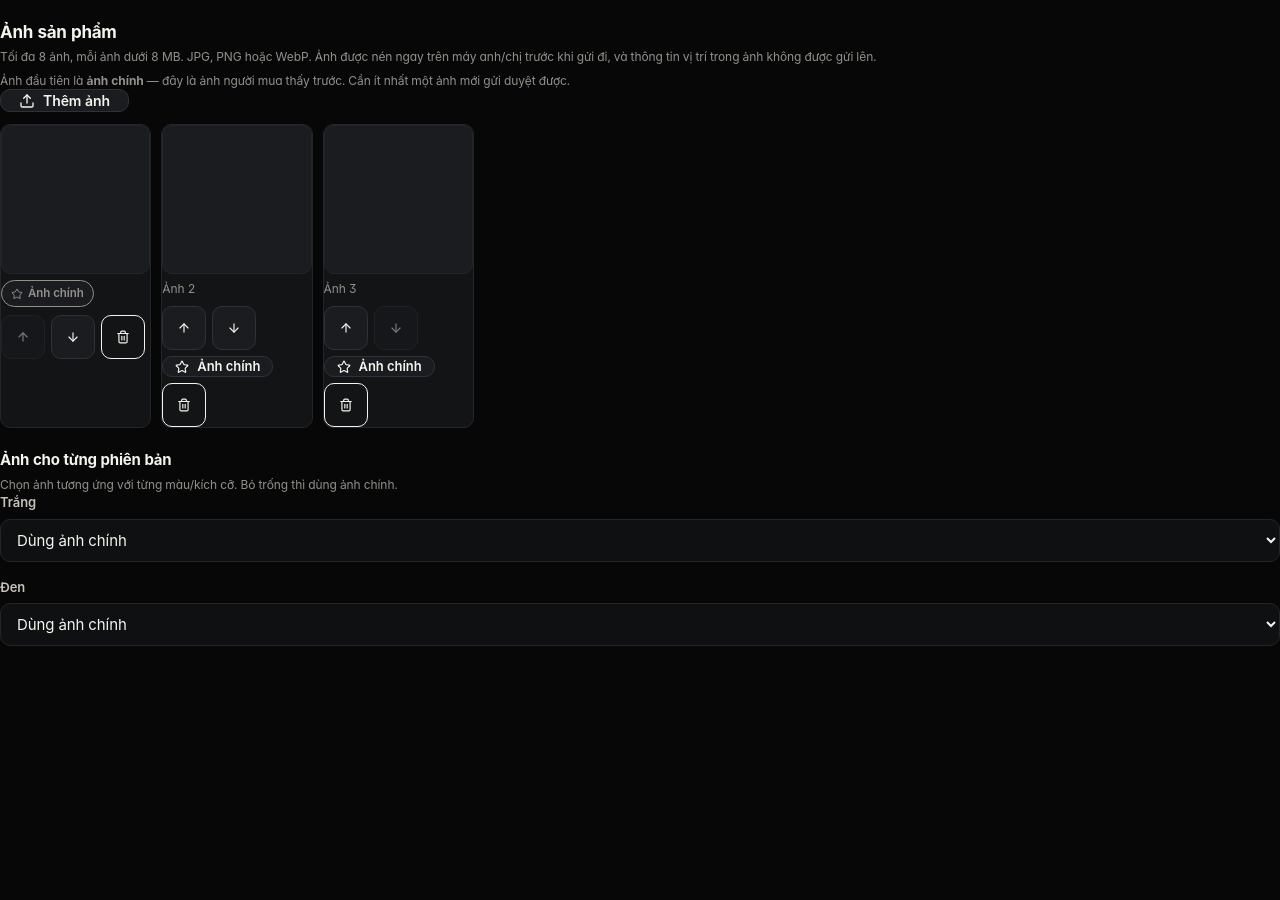
Test case: deleting a photo › says why when the server refuses
The width and height of the screenshot is (1280, 900).
Click the button named "Xóa ảnh 1": [123, 337] box [101,315,145,359]
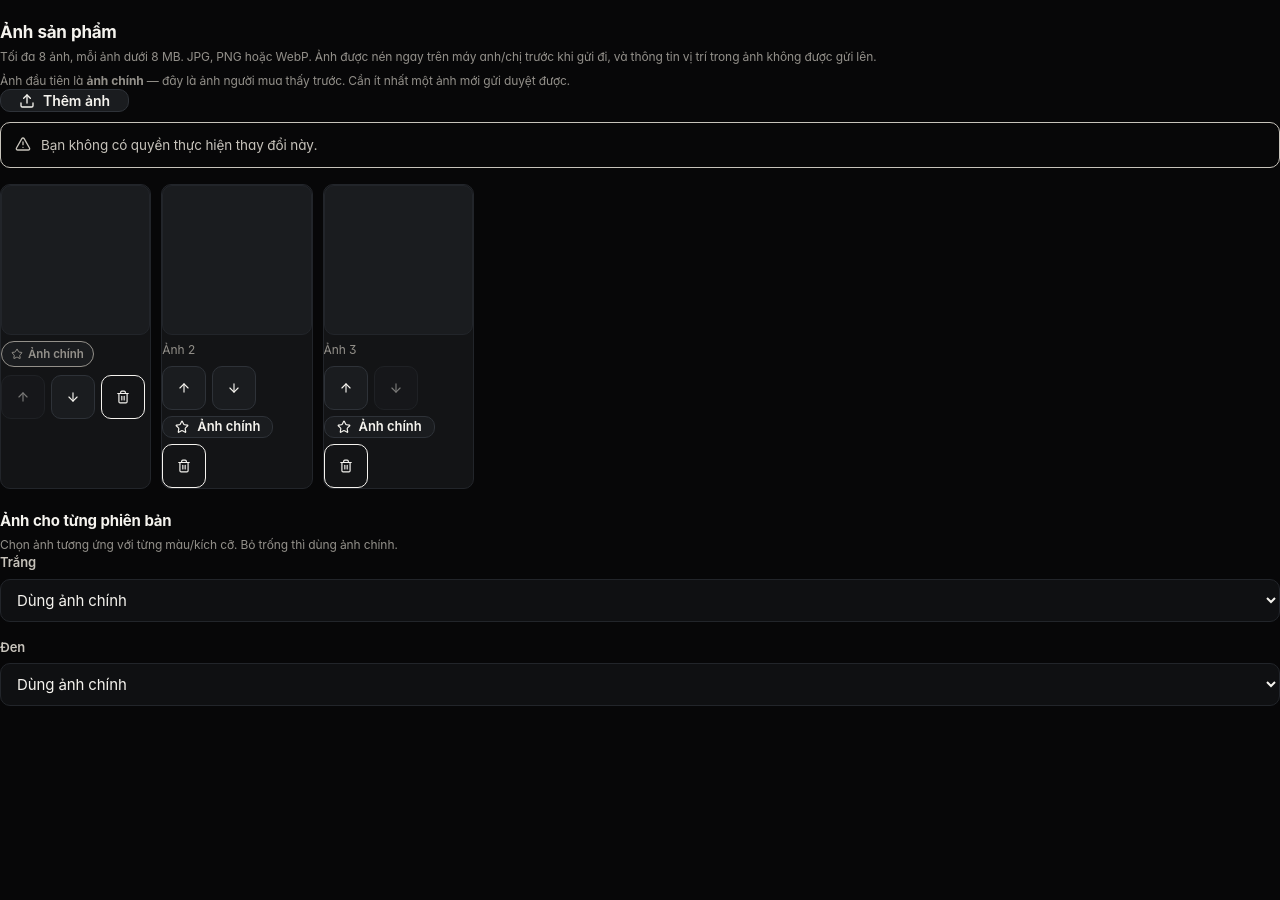
Check: the message shows "không có quyền", box [41,137,317,153]
